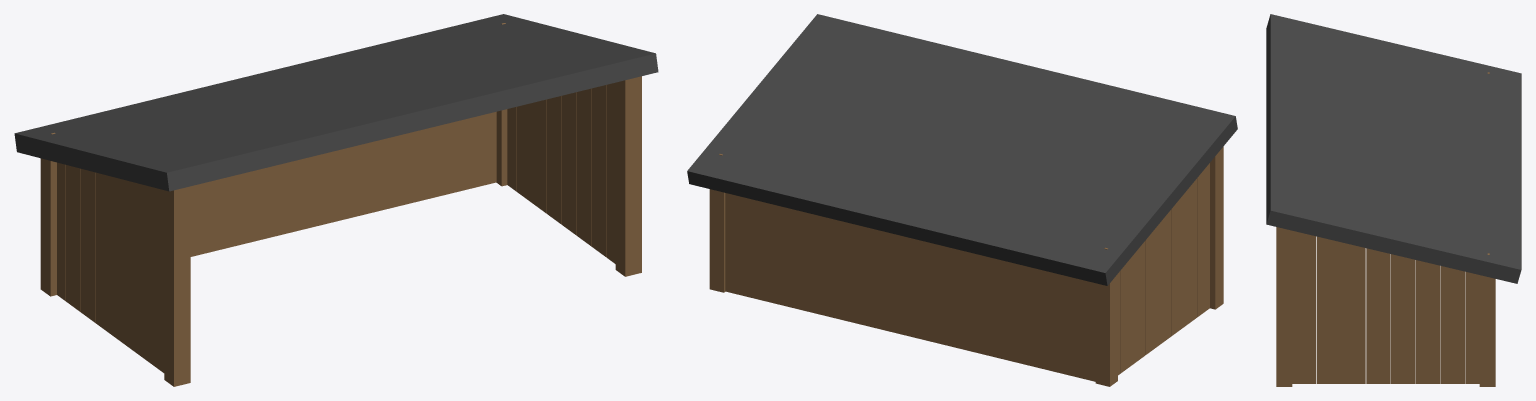
File: Stable.fbx
3 views of the same model, side by side, from view 1: azimuth 30°, elevation 25°; view 2: azimuth 150°, elevation 25°; view 3: azimuth 270°, elevation 25° (orthographic). The views are drawn at different scales.
Parts seen in each view (by area): view 1: Stable; view 2: Stable; view 3: Stable.
Boxes of the visible parts, x1,y1,x2,y2 form: Stable: [14, 14, 658, 386]; Stable: [687, 14, 1237, 386]; Stable: [1266, 14, 1521, 386].
Size of the model in its own units: 471 by 202 by 258.
